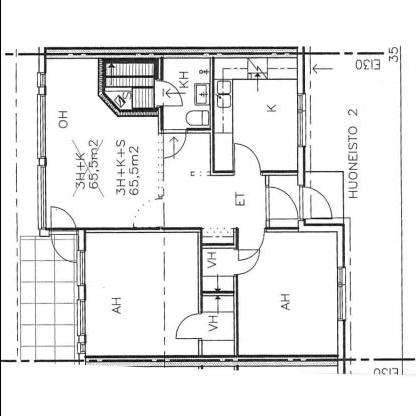door: (48, 205, 80, 266), (266, 184, 300, 235), (297, 184, 335, 224), (234, 225, 267, 263), (147, 78, 185, 110), (230, 141, 262, 178), (173, 307, 203, 343), (232, 246, 261, 276)
window: (34, 67, 48, 231), (72, 246, 86, 356), (294, 84, 308, 152), (334, 260, 346, 324)
